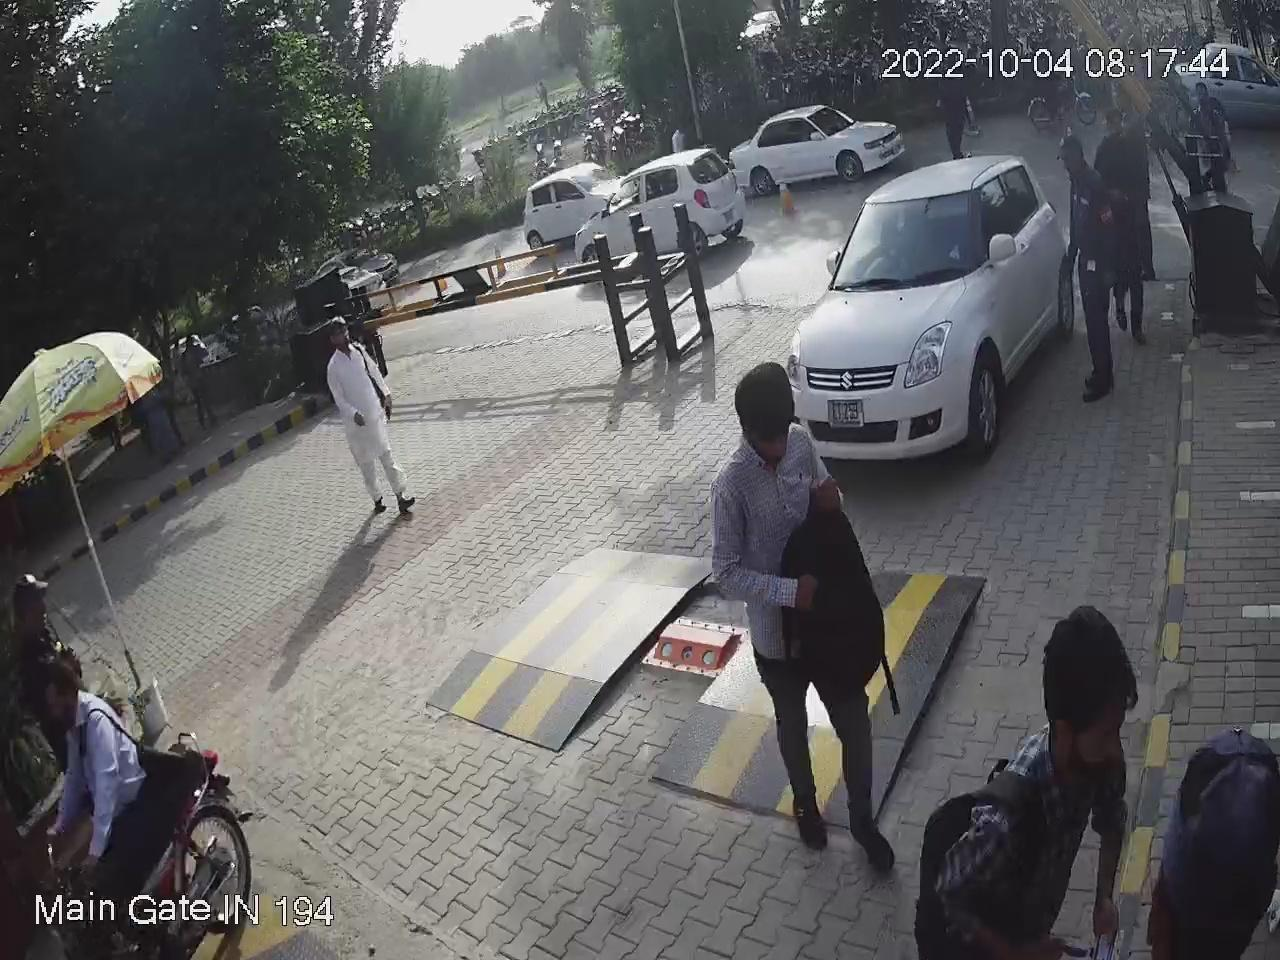windshield: (825, 185, 974, 287)
